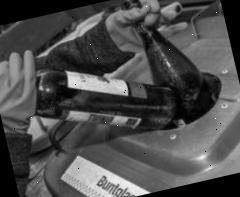glass: (22, 39, 182, 157), (118, 0, 222, 135)
